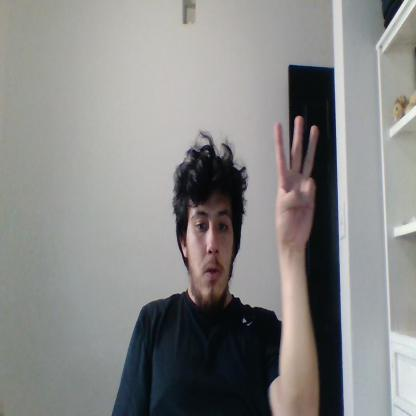W: (275, 116, 319, 246)
